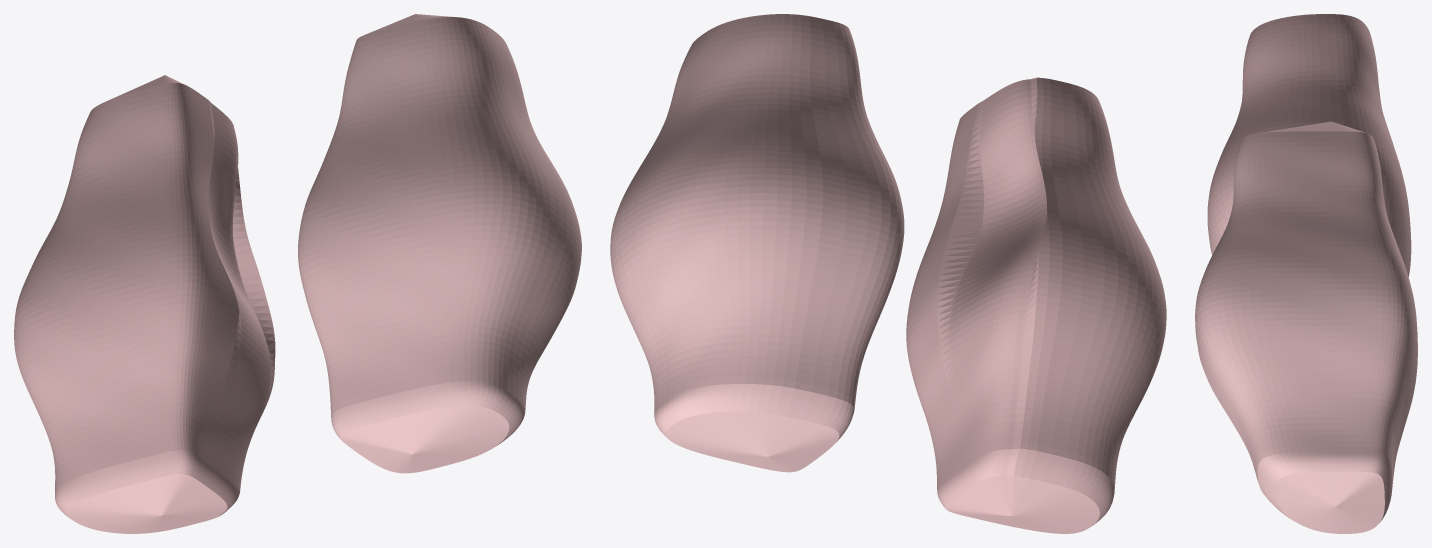
The model's file is medical_lungs.glb.
3 views of the same model, side by side, from view 1: azimuth 30°, elevation 25°; view 2: azimuth 150°, elevation 25°; view 3: azimuth 270°, elevation 25° (orthographic). The views are drawn at different scales.
Visible parts, largest first — view 1: left_lower_lobe, right_lower_lobe, left_upper_lobe, right_upper_lobe, right_middle_lobe; view 2: left_lower_lobe, right_lower_lobe, left_upper_lobe, right_upper_lobe, right_middle_lobe; view 3: right_lower_lobe, right_upper_lobe, left_upper_lobe, right_middle_lobe, left_lower_lobe.
Boxes of the visible parts, bbox=[...] form: left_lower_lobe: bbox=[14, 231, 274, 533]; right_lower_lobe: bbox=[300, 225, 569, 473]; left_upper_lobe: bbox=[19, 75, 275, 361]; right_upper_lobe: bbox=[306, 14, 570, 202]; right_middle_lobe: bbox=[298, 160, 581, 306]; left_lower_lobe: bbox=[906, 267, 1166, 533]; right_lower_lobe: bbox=[615, 249, 891, 472]; left_upper_lobe: bbox=[911, 77, 1166, 317]; right_upper_lobe: bbox=[621, 14, 897, 200]; right_middle_lobe: bbox=[610, 156, 904, 287]; right_lower_lobe: bbox=[1209, 320, 1416, 533]; right_upper_lobe: bbox=[1203, 121, 1407, 276]; left_upper_lobe: bbox=[1207, 14, 1401, 229]; right_middle_lobe: bbox=[1195, 262, 1417, 391]; left_lower_lobe: bbox=[1208, 146, 1411, 276].
Size of the model in its own units: 2 by 1.59 by 0.8361.
